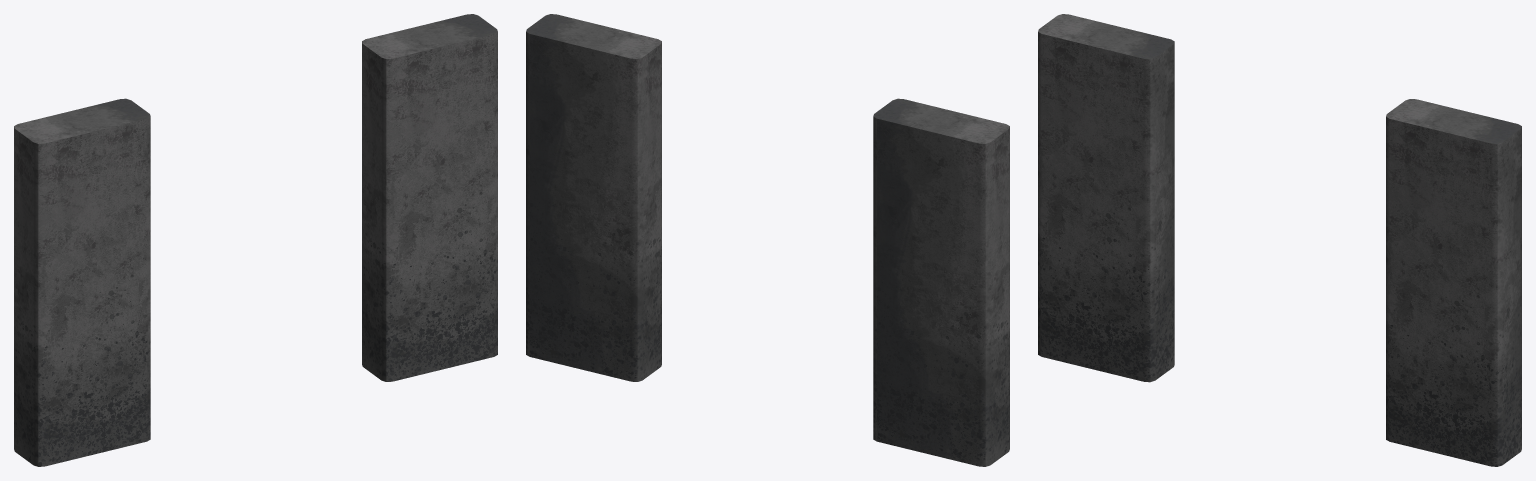
Rendered from MR_Door_L_Tex.fbx.
3 views of the same model, side by side, from view 1: azimuth 30°, elevation 25°; view 2: azimuth 150°, elevation 25°; view 3: azimuth 330°, elevation 25° (orthographic).
Parts seen in each view (by area): view 1: pasted__pasted__M_Wall_Single1, pasted__pasted__pasted__M_Wall_Single1; view 2: pasted__pasted__M_Wall_Single1, pasted__pasted__pasted__M_Wall_Single1; view 3: pasted__pasted__M_Wall_Single1, pasted__pasted__pasted__M_Wall_Single1.
Part boxes in pixels (box(x1,y1,x2,y2)): pasted__pasted__M_Wall_Single1: box(14, 98, 150, 466); pasted__pasted__pasted__M_Wall_Single1: box(362, 14, 497, 381); pasted__pasted__M_Wall_Single1: box(873, 98, 1009, 466); pasted__pasted__pasted__M_Wall_Single1: box(526, 14, 661, 381); pasted__pasted__M_Wall_Single1: box(1038, 14, 1174, 382); pasted__pasted__pasted__M_Wall_Single1: box(1386, 99, 1521, 466).
Size of the model in its own units: 150 by 100 by 15.
